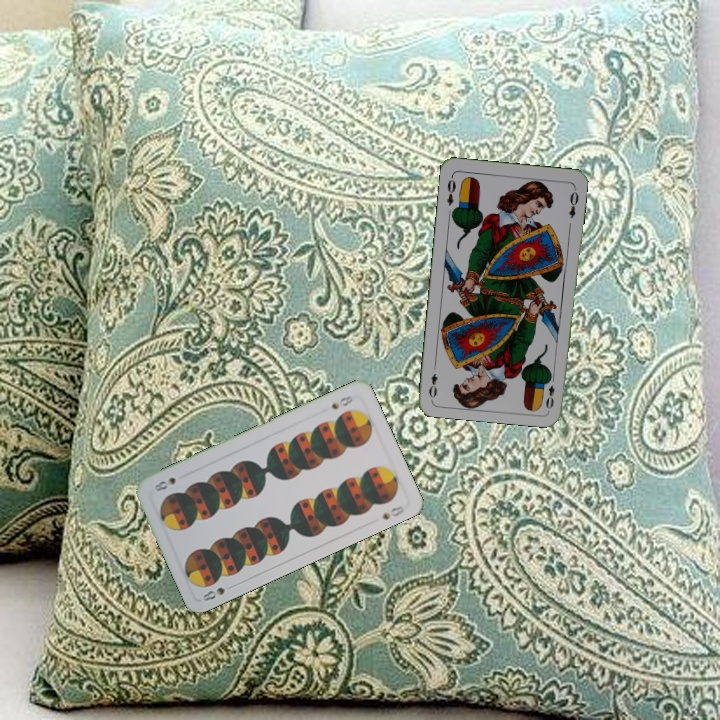EO: (542, 371, 557, 412), (443, 172, 458, 208)
S8: (198, 580, 237, 604), (327, 391, 356, 412)
